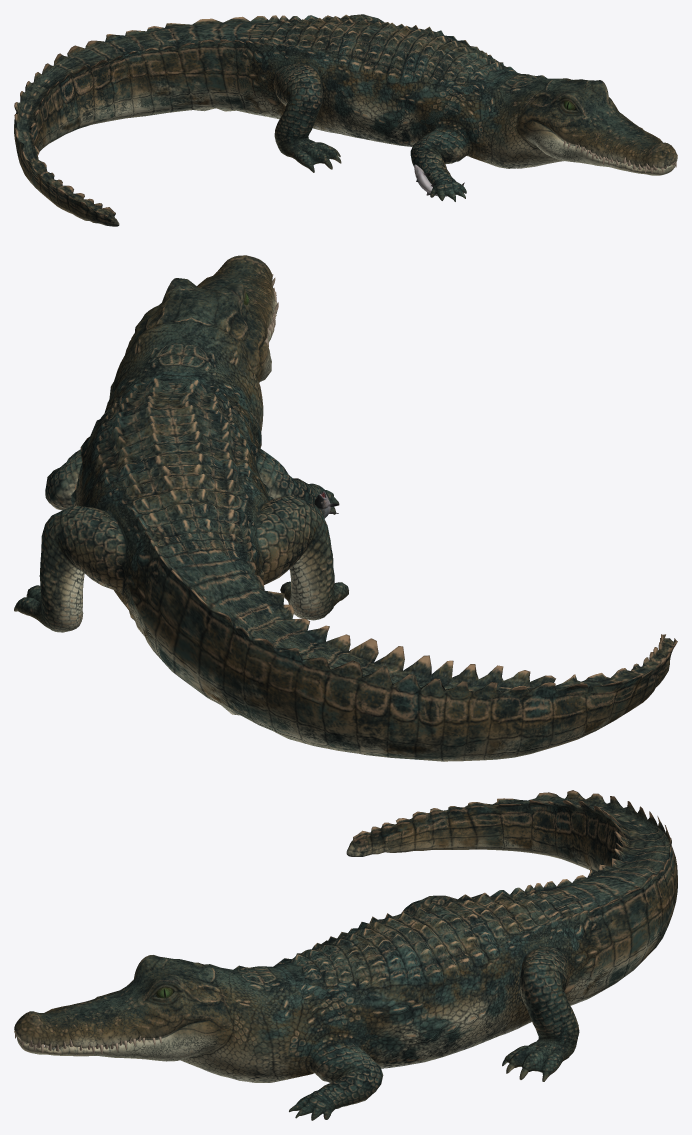
File: american-alligator.glb
3 renders of one model, top to bottom at view 1: azimuth 30°, elevation 25°; view 2: azimuth 150°, elevation 25°; view 3: azimuth 270°, elevation 25°, orthographic. The views are drawn at different scales.
Parts seen in each view (by area): view 1: node_id30_1, node_id44_2; view 2: node_id30_1; view 3: node_id30_1.
Boxes of the visible parts, x1,y1,x2,y2 form: node_id30_1: (14,14,677,226); node_id44_2: (414,164,465,196); node_id30_1: (14,255,677,761); node_id30_1: (14,790,677,1120).
Bounding box in the file's own units: 4.35 × 0.9652 × 4.34.
Materials: 2 (2 with a texture image).
